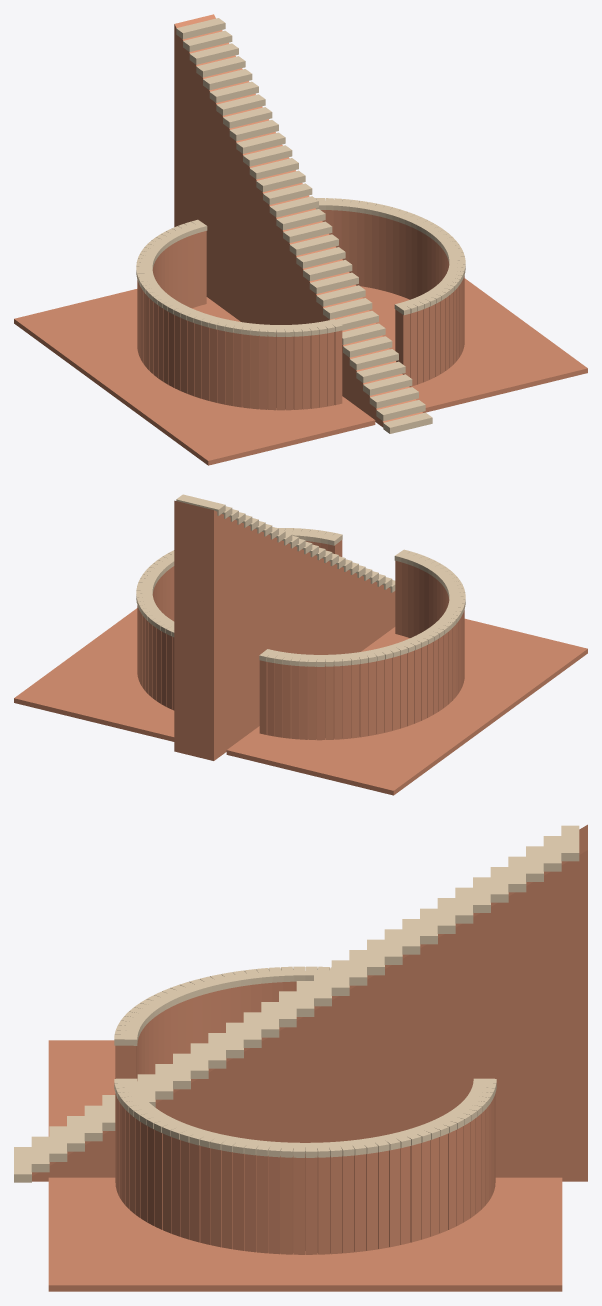
Rendered from jantar-mantar.glb.
The picture shows the model from 3 angles, top to bottom: view 1: azimuth 30°, elevation 25°; view 2: azimuth 150°, elevation 25°; view 3: azimuth 270°, elevation 25°; orthographic projection. The views are drawn at different scales.
Visible parts, largest first — view 1: NCR_jantar-mantar; view 2: NCR_jantar-mantar; view 3: NCR_jantar-mantar.
Part boxes in pixels (x1,y1,x2,y2): NCR_jantar-mantar: (14, 14, 587, 465); NCR_jantar-mantar: (14, 494, 587, 795); NCR_jantar-mantar: (14, 824, 587, 1291).
Bounding box in the file's own units: 28.5 × 18 × 28.22.
